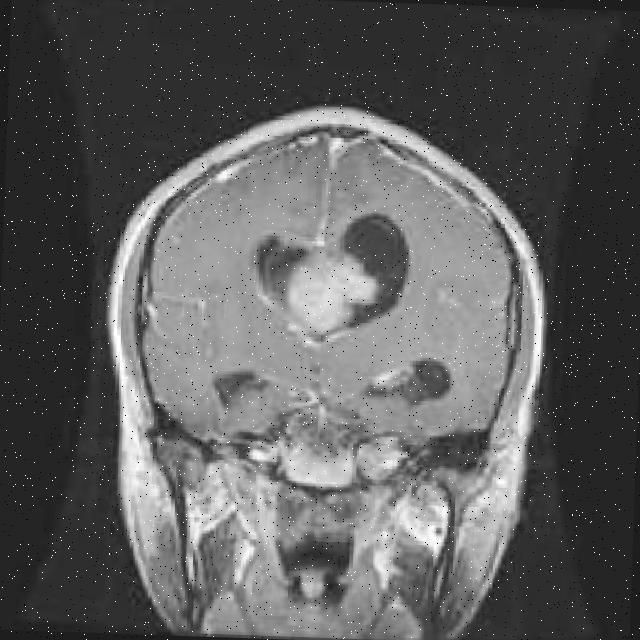EMCI: (260, 204, 359, 306)
MCI: (333, 338, 496, 438)
